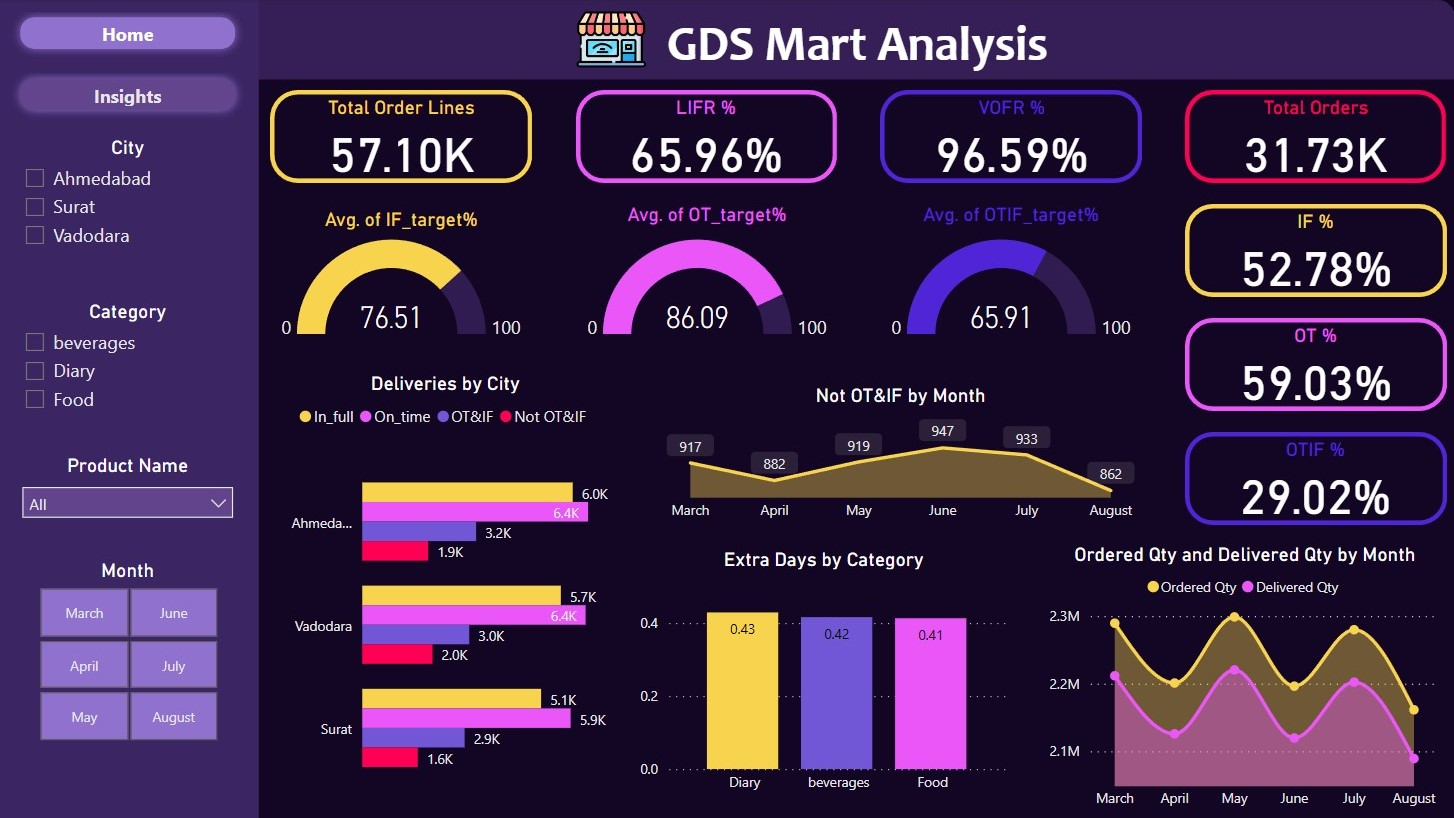

Layout of this report page (visuals, bound fields, positions):
{"tool":"powerbi","page":{"name":"Home","canvas":[1280,720],"ordinal":0},"visuals":[{"type":"shape","box":[181.7,0,1098.3,70.9],"z":0},{"type":"shape","box":[0,0,229.4,720.2],"z":1000},{"type":"gauge","title":"Avg. of OT_target%","fields":{"Y":["Avg(dim_targets_orders.ontime_target%)"],"MaxValue":["dim_targets_orders.Max"]},"box":[507.3,178.8,230.3,133.2],"z":2000},{"type":"gauge","title":"Avg. of IF_target%","fields":{"Y":["Avg(dim_targets_orders.infull_target%)"],"MaxValue":["dim_targets_orders.Max"]},"box":[239.1,183.7,230.3,124.4],"z":3000},{"type":"gauge","title":"Avg. of OTIF_target%","fields":{"Y":["Avg(dim_targets_orders.otif_target%)"],"MaxValue":["dim_targets_orders.Max"]},"box":[774.6,178.8,230.3,133.2],"z":4000},{"type":"clusteredBarChart","title":"Deliveries by City","fields":{"Category":["dim_customers.city"],"Y":["Sum(fact_orders_aggregate.in_full)","Sum(fact_orders_aggregate.on_time)","Sum(fact_orders_aggregate.otif)","fact_orders_aggregate.Not OT&IF"]},"box":[239.1,322.7,308.1,397.5],"z":5000},{"type":"areaChart","title":"Ordered Qty and Delivered Qty by Month","fields":{"Category":["dim_date.mmm_yy"],"Y":["Sum(fact_order_lines.order_qty)","Sum(fact_order_lines.delivery_qty)"]},"box":[917.5,472.3,354.7,247.8],"z":6000},{"type":"shape","box":[1041.9,79.7,229.4,81.6],"z":7000},{"type":"shape","box":[507.3,79.7,229.4,81.6],"z":8000},{"type":"shape","box":[774.6,79.7,230.3,81.6],"z":9000},{"type":"shape","box":[239.1,79.7,230.3,81.6],"z":10000},{"type":"shape","box":[1041.9,380,230.3,81.6],"z":10000,"group":"g3"},{"type":"textbox","box":[229.4,7.8,1050.6,63.2],"z":11000},{"type":"image","box":[489.8,0,96.2,70.9],"z":12000},{"type":"shape","box":[1041.9,180.1,230.3,81.6],"z":12000,"group":"g1"},{"type":"card","title":"Total Orders","fields":{"Values":["CountNonNull(fact_orders_aggregate.order_id)"]},"box":[1063.3,79.7,187.6,81.6],"z":13000},{"type":"shape","box":[1041.9,279.9,230.3,81.6],"z":13000,"group":"g2"},{"type":"card","title":"LIFR %","fields":{"Values":["fact_order_lines.LIFR%"]},"box":[530.7,79.7,182.7,81.6],"z":14000},{"type":"card","title":"Total Order Lines","fields":{"Values":["CountNonNull(fact_order_lines.order_id)"]},"box":[265.3,79.7,177.9,81.6],"z":15000},{"type":"card","title":"VOFR %","fields":{"Values":["fact_order_lines.VOFR%"]},"box":[800.9,79.7,178.8,81.6],"z":16000},{"type":"card","title":"IF %","fields":{"Values":["fact_orders_aggregate.IF%"]},"box":[1056,179.8,201.2,80.7],"z":16000,"group":"g1"},{"type":"slicer","title":"City","fields":{"Values":["dim_customers.city"]},"box":[11.7,120.5,205.1,116.6],"z":17000},{"type":"card","title":"OT %","fields":{"Values":["fact_orders_aggregate.OT%"]},"box":[1056,280.2,201.2,81.6],"z":17000,"group":"g2"},{"type":"slicer","title":"Category","fields":{"Values":["dim_products.category"]},"box":[11.7,264.4,205.1,115.7],"z":18000},{"type":"card","title":"OTIF %","fields":{"Values":["fact_orders_aggregate.OTIF%"]},"box":[1056,380,201.2,81.6],"z":18000,"group":"g3"},{"type":"slicer","title":"Product Name","fields":{"Values":["dim_products.product_name"]},"box":[11.7,399.5,205.1,78.7],"z":19000},{"type":"slicer","title":"Month","fields":{"Values":["dim_date.mmm_yy"]},"box":[11.7,491.8,205.1,166.2],"z":20000},{"type":"pageNavigator","box":[11.7,7.8,205.1,99.1],"z":21000},{"type":"group","id":"g1","title":"Group 1","box":[1041.9,179.8,230.3,81.6],"z":22000},{"type":"group","id":"g2","title":"Group 2","box":[1041.9,279.9,230.3,81.6],"z":23000},{"type":"group","id":"g3","title":"Group 3","box":[1041.9,380,230.3,81.6],"z":24000},{"type":"areaChart","title":"Not OT&IF by Month","fields":{"Category":["dim_date.mmm_yy"],"Y":["fact_orders_aggregate.Not OT&IF"]},"box":[573.4,332.4,438.3,134.1],"z":25000},{"type":"clusteredColumnChart","title":"Extra Days by Category","fields":{"Category":["dim_products.category"],"Y":["Avg(fact_order_lines.ExtraDays)"]},"box":[558.8,477.2,333.4,229.4],"z":26000}]}

Visuals, with their boxes in screenshot pixels (x1, y1, x2, y2), scaled from the page's 1280x720 canvas onto the 1454x818 screenshot:
shape: box=[206, 0, 1453, 81]
shape: box=[0, 0, 261, 817]
"Avg. of OT_target%" gauge: box=[576, 203, 838, 354]
"Avg. of IF_target%" gauge: box=[272, 209, 533, 350]
"Avg. of OTIF_target%" gauge: box=[880, 203, 1142, 354]
"Deliveries by City" clusteredBarChart: box=[272, 367, 622, 817]
"Ordered Qty and Delivered Qty by Month" areaChart: box=[1042, 537, 1445, 817]
shape: box=[1184, 91, 1444, 183]
shape: box=[576, 91, 837, 183]
shape: box=[880, 91, 1142, 183]
shape: box=[272, 91, 533, 183]
shape: box=[1184, 432, 1445, 524]
textbox: box=[261, 9, 1453, 81]
image: box=[556, 0, 666, 81]
shape: box=[1184, 205, 1445, 297]
"Total Orders" card: box=[1208, 91, 1421, 183]
shape: box=[1184, 318, 1445, 411]
"LIFR %" card: box=[603, 91, 810, 183]
"Total Order Lines" card: box=[301, 91, 503, 183]
"VOFR %" card: box=[910, 91, 1113, 183]
"IF %" card: box=[1200, 204, 1428, 296]
"City" slicer: box=[13, 137, 246, 269]
"OT %" card: box=[1200, 318, 1428, 411]
"Category" slicer: box=[13, 300, 246, 432]
"OTIF %" card: box=[1200, 432, 1428, 524]
"Product Name" slicer: box=[13, 454, 246, 543]
"Month" slicer: box=[13, 559, 246, 748]
pageNavigator: box=[13, 9, 246, 121]
"Group 1" group: box=[1184, 204, 1445, 297]
"Group 2" group: box=[1184, 318, 1445, 411]
"Group 3" group: box=[1184, 432, 1445, 524]
"Not OT&IF by Month" areaChart: box=[651, 378, 1149, 530]
"Extra Days by Category" clusteredColumnChart: box=[635, 542, 1013, 803]
